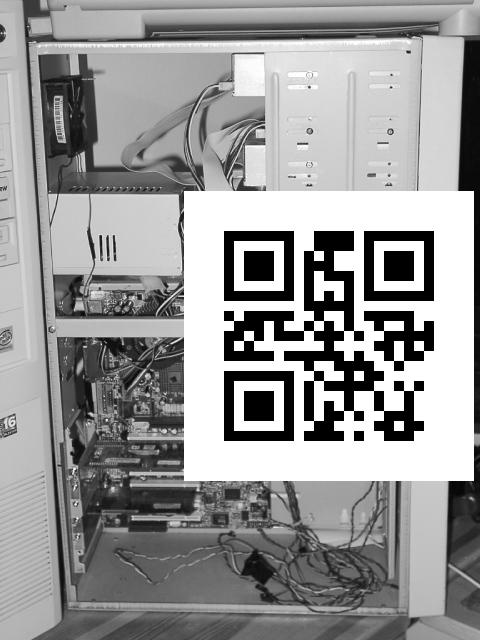qr_code: (184, 191, 473, 477)
